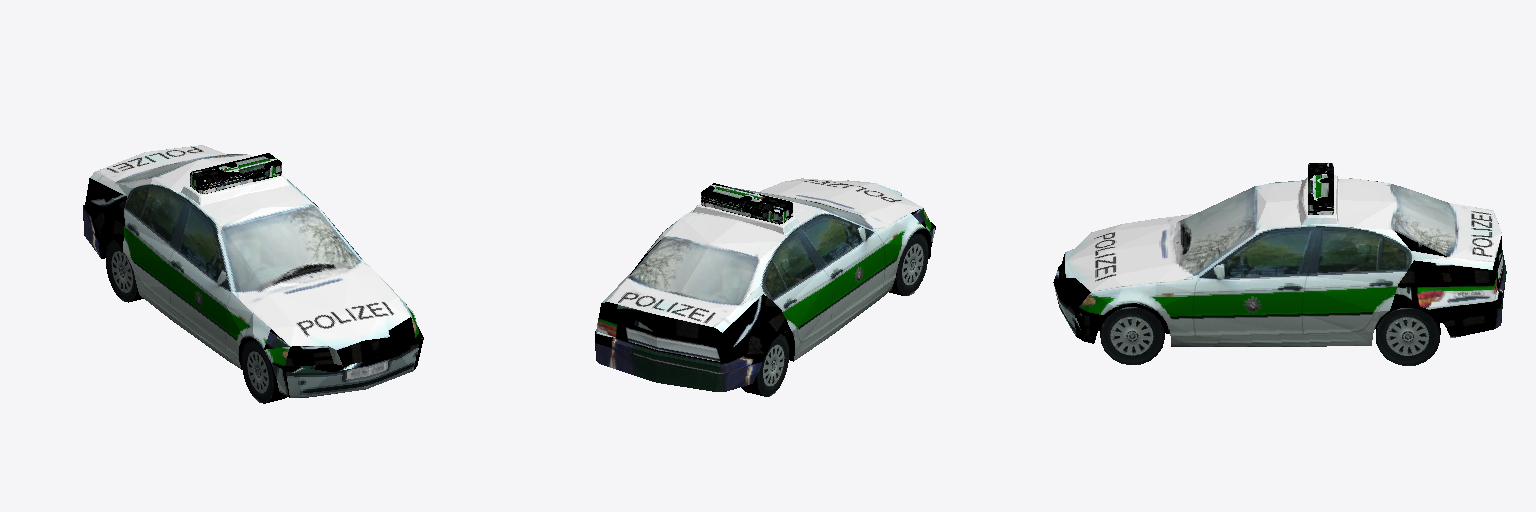
3 views of the same model, side by side, from view 1: azimuth 30°, elevation 25°; view 2: azimuth 150°, elevation 25°; view 3: azimuth 270°, elevation 25° (orthographic).
Visible parts, largest first — view 1: GermanPolice; view 2: GermanPolice; view 3: GermanPolice.
Boxes of the visible parts, x1,y1,x2,y2 form: GermanPolice: [83, 145, 423, 403]; GermanPolice: [595, 178, 935, 396]; GermanPolice: [1053, 163, 1506, 365].
Size of the model in its own units: 1.78 by 1.62 by 4.46.
1 materials, 1 textured.